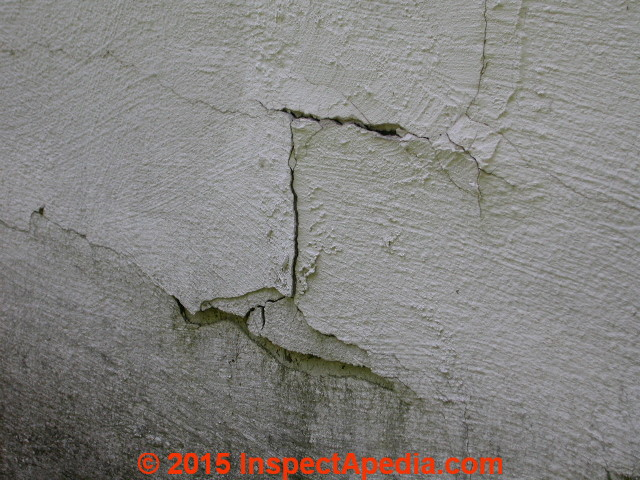crack: (168, 284, 401, 395), (11, 37, 264, 120), (439, 0, 520, 221), (1, 201, 157, 285), (278, 104, 431, 143), (283, 111, 303, 301)
